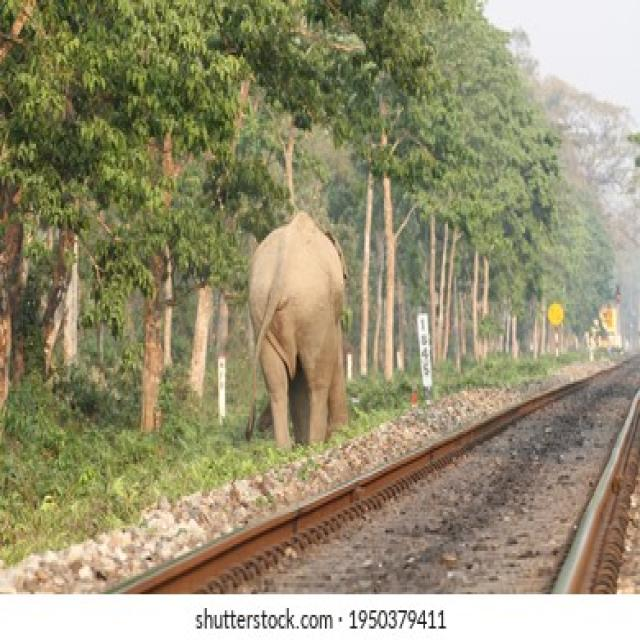Elephant: (243, 215, 361, 479)
